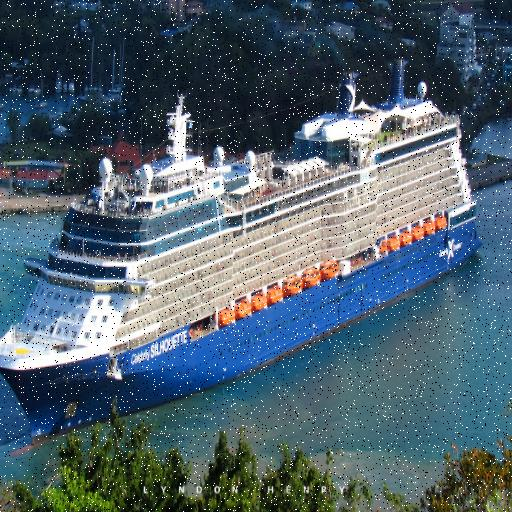cruises: (1, 54, 487, 460)
